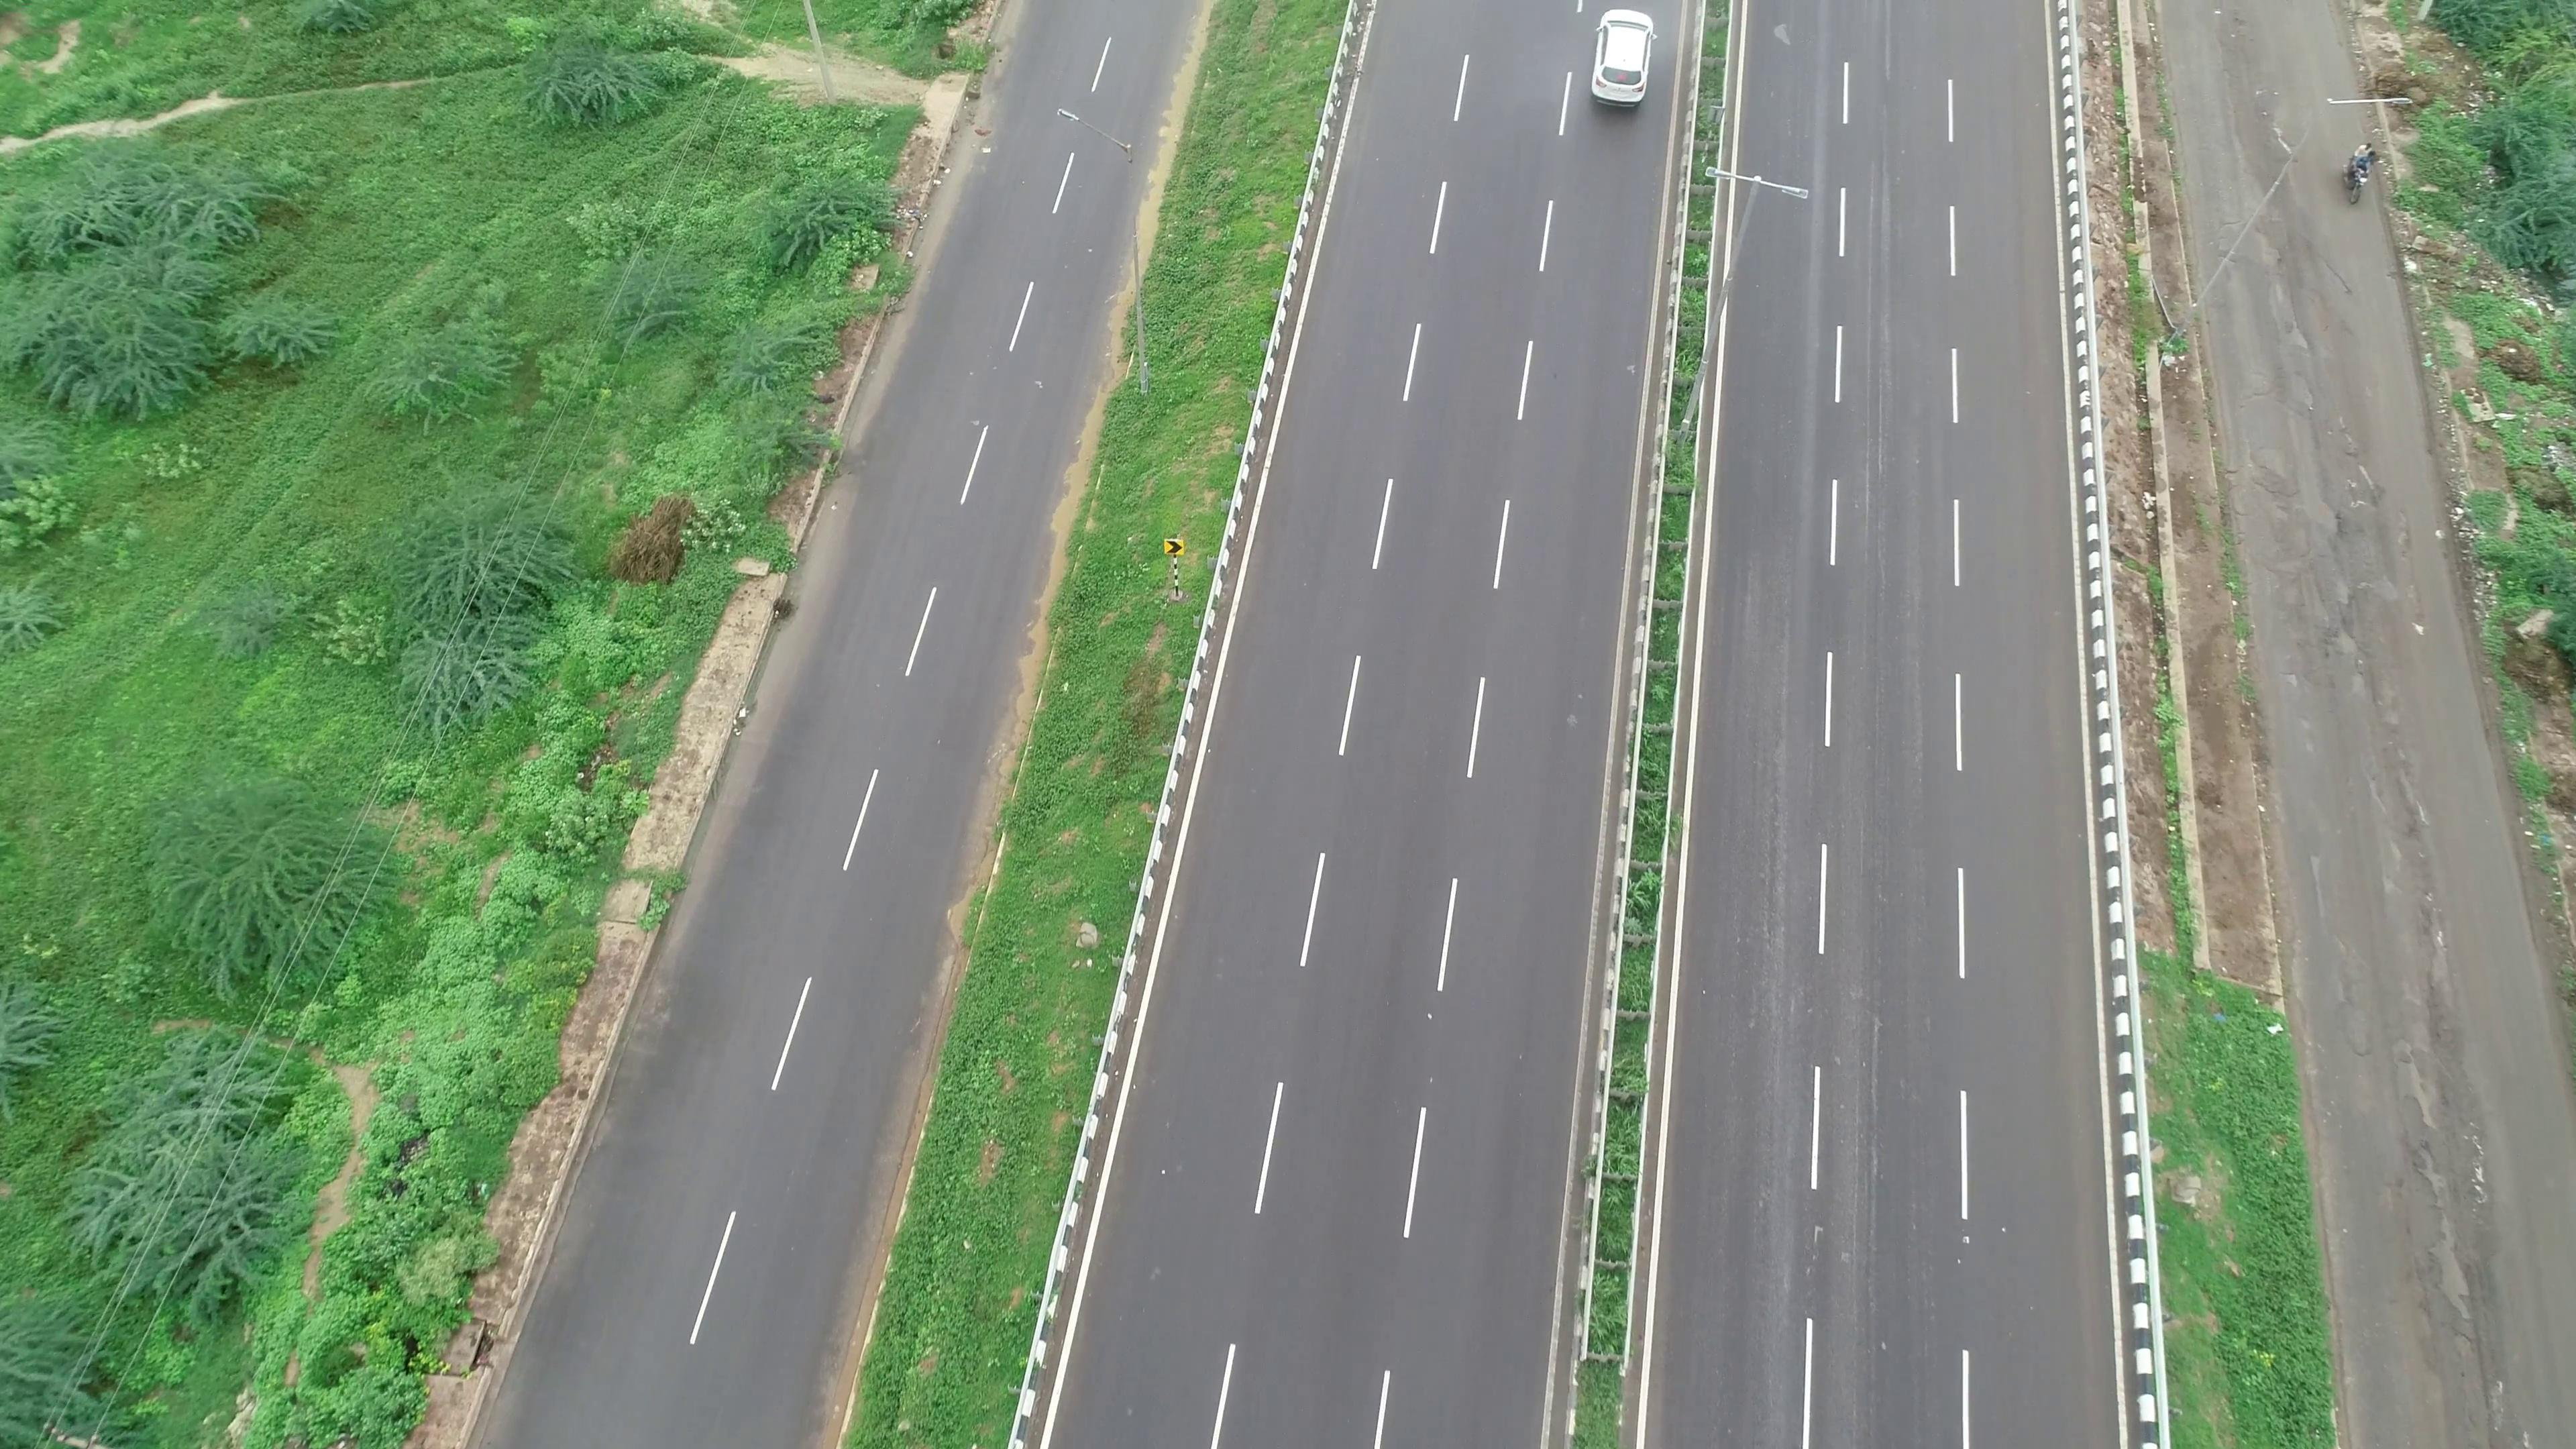Ravelling: (1847, 138, 1914, 571), (1734, 688, 1801, 1033), (1854, 957, 1898, 1288)
